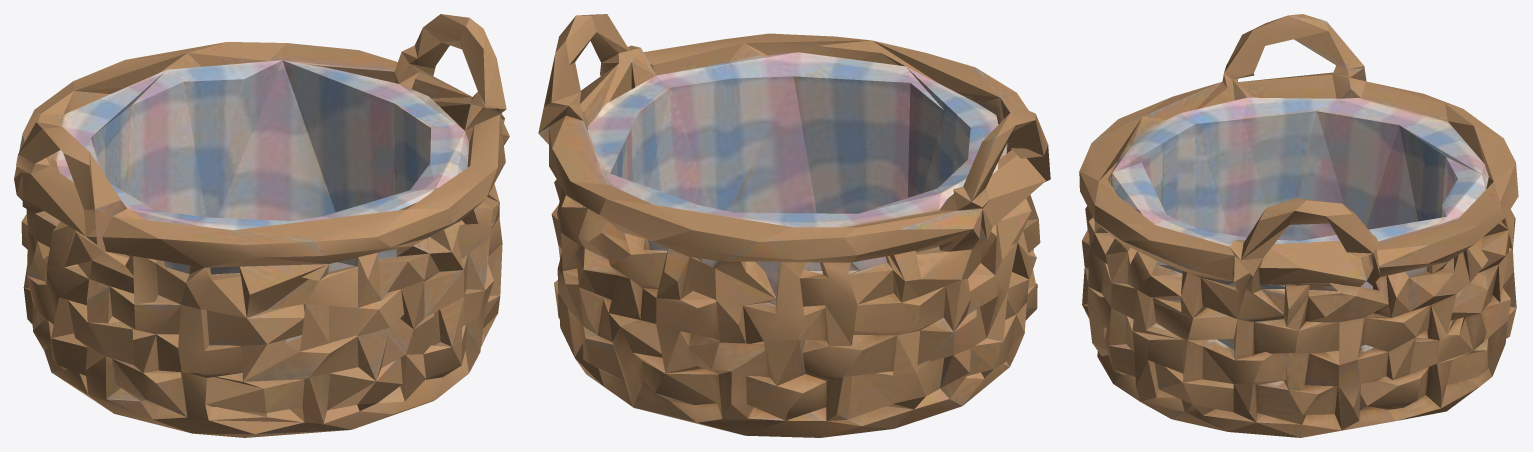
File: basket.glb
3 renders of one model, left to right at view 1: azimuth 30°, elevation 25°; view 2: azimuth 150°, elevation 25°; view 3: azimuth 270°, elevation 25°, orthographic. The views are drawn at different scales.
Visible parts, largest first — view 1: Mesh_0; view 2: Mesh_0; view 3: Mesh_0.
Boxes of the visible parts, bbox=[...] form: Mesh_0: bbox=[14, 14, 509, 437]; Mesh_0: bbox=[538, 14, 1050, 437]; Mesh_0: bbox=[1079, 14, 1518, 437].
Bounding box in the file's own units: 1.89 × 1.14 × 1.81.
Materials: 1 (1 with a texture image).
